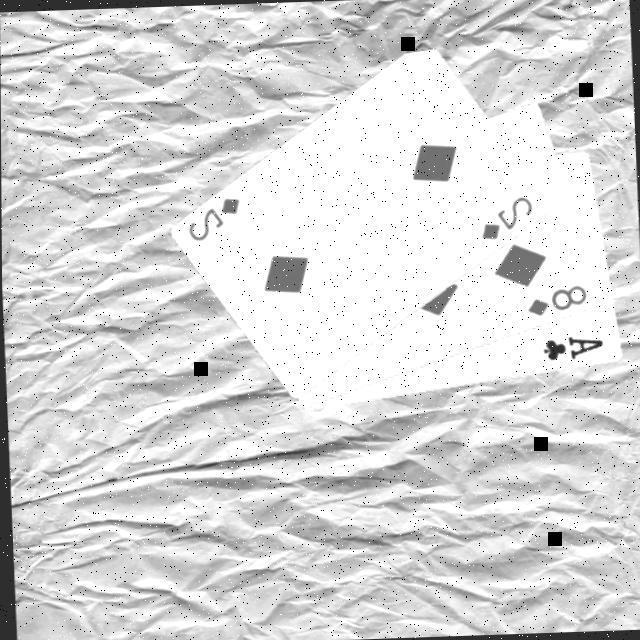2D: (474, 192, 536, 245), (181, 194, 243, 247)
8D: (521, 282, 588, 321)
AC: (537, 333, 604, 365)
